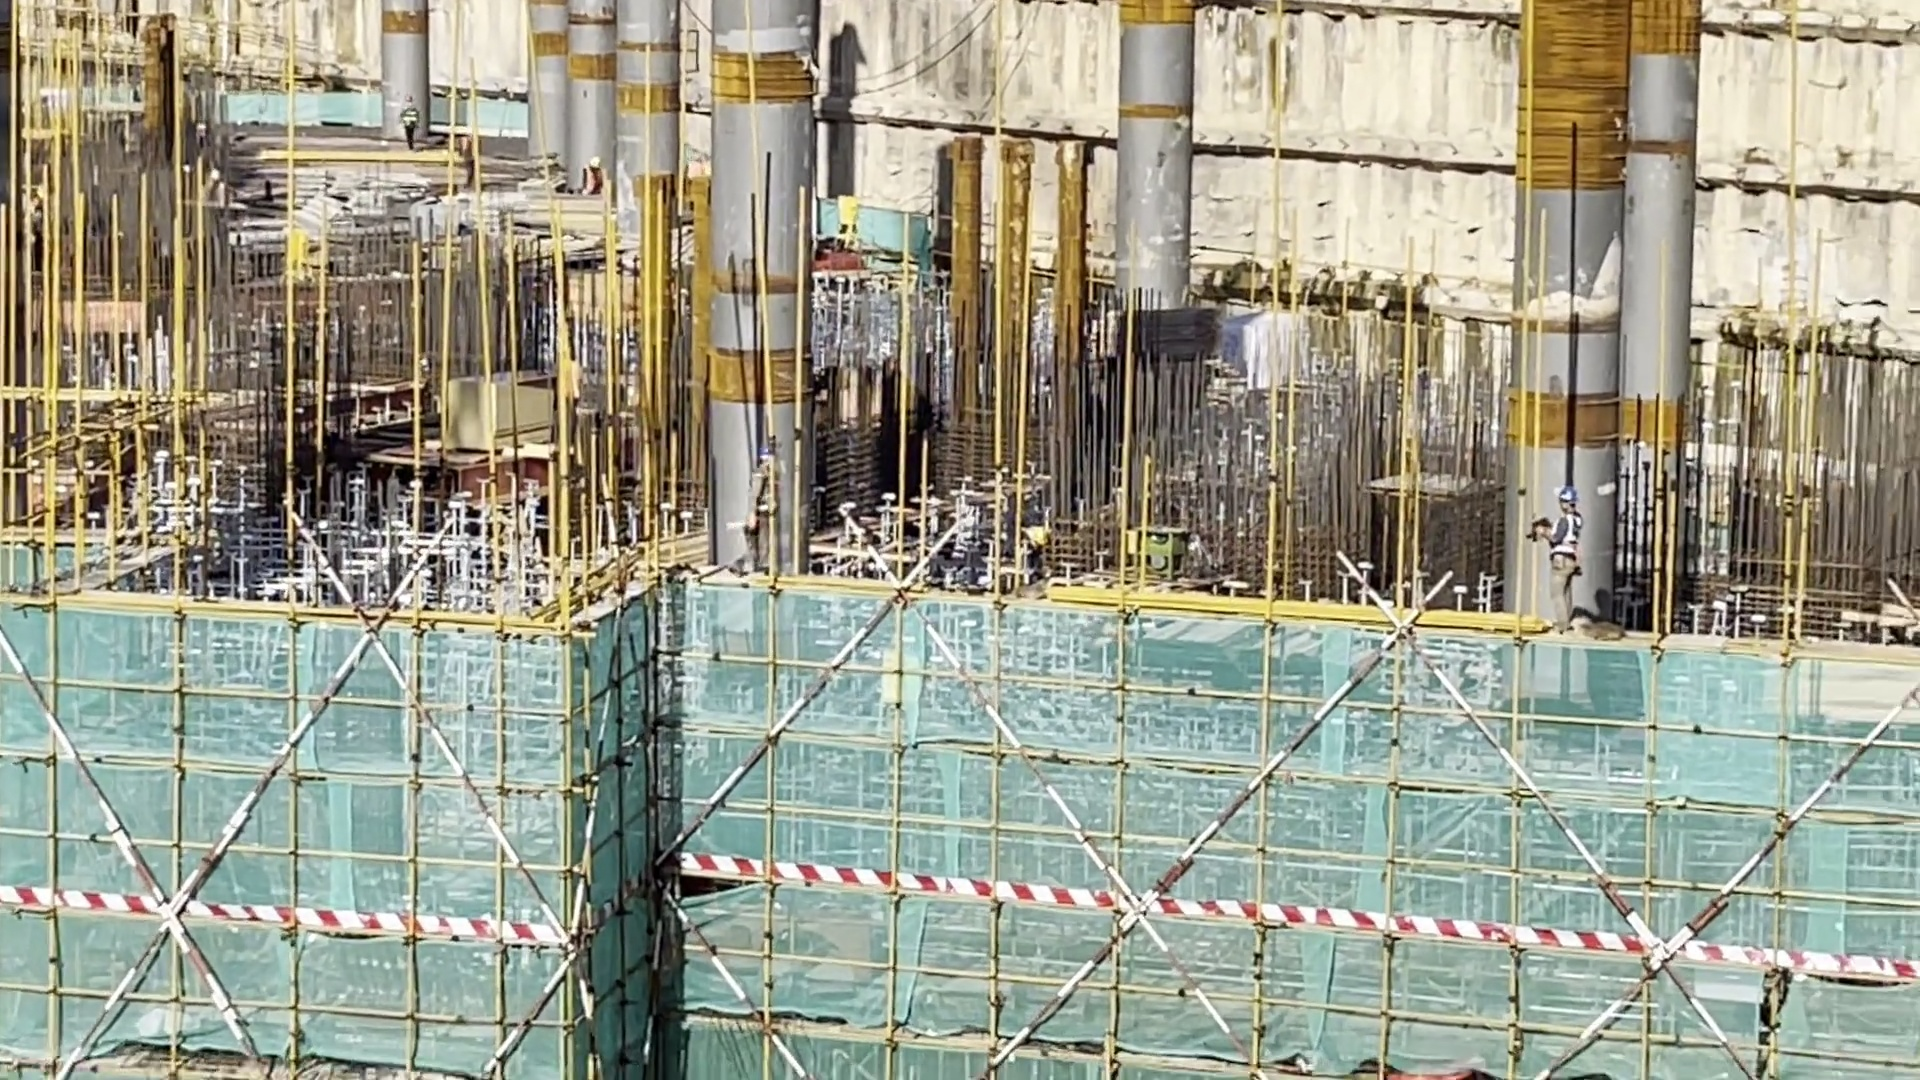helmet: (754, 446, 783, 472), (1023, 531, 1049, 547), (1556, 486, 1578, 504), (466, 126, 476, 142), (404, 95, 417, 104), (594, 153, 603, 164)
person: (1531, 485, 1593, 628), (738, 440, 793, 590), (999, 523, 1076, 583), (404, 90, 436, 143), (459, 126, 489, 176), (581, 148, 598, 196)
vest: (1554, 499, 1586, 571), (744, 469, 771, 519), (463, 140, 481, 166), (582, 171, 604, 189), (403, 108, 418, 124)
